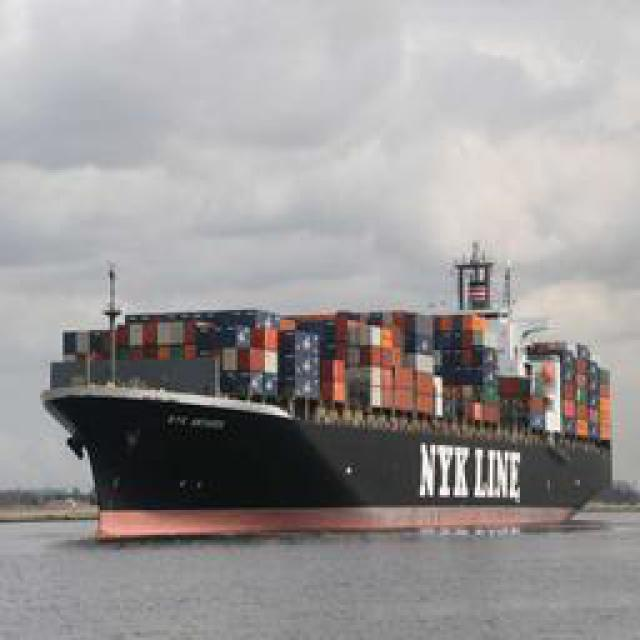Ship: (45, 241, 633, 519)
